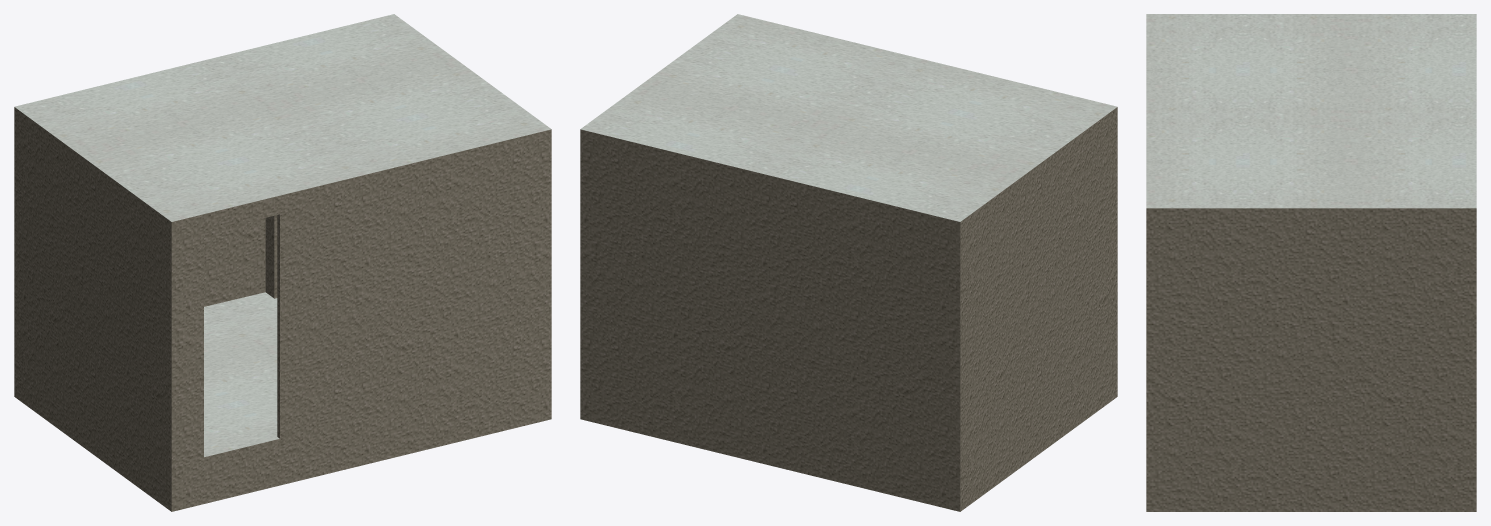
The model's file is cave1_rdc.obj.
3 renders of one model, left to right at view 1: azimuth 30°, elevation 25°; view 2: azimuth 150°, elevation 25°; view 3: azimuth 270°, elevation 25°, orthographic. The views are drawn at different scales.
Visible parts, largest first — view 1: Cave1_RDC_Cube.015; view 2: Cave1_RDC_Cube.015; view 3: Cave1_RDC_Cube.015.
Part boxes in pixels (<box>): Cave1_RDC_Cube.015: <box>14,14,551,511</box>; Cave1_RDC_Cube.015: <box>580,14,1117,511</box>; Cave1_RDC_Cube.015: <box>1146,14,1476,511</box>.
Bounding box in the file's own units: 4.25 × 3.1 × 3.05.
